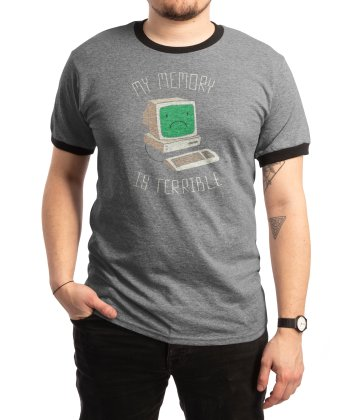design: (123, 64, 228, 198)
